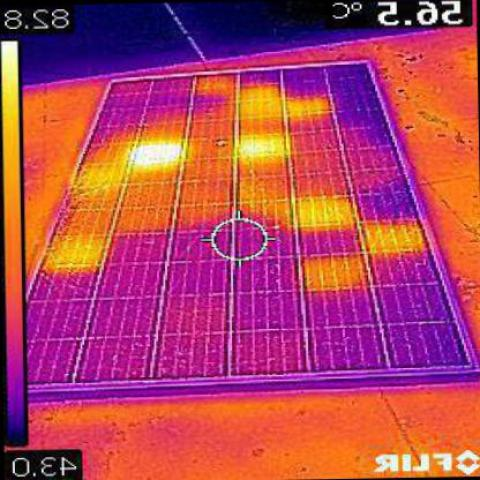fault: (299, 198, 352, 226), (133, 140, 188, 162), (372, 224, 418, 248), (238, 135, 287, 154)
